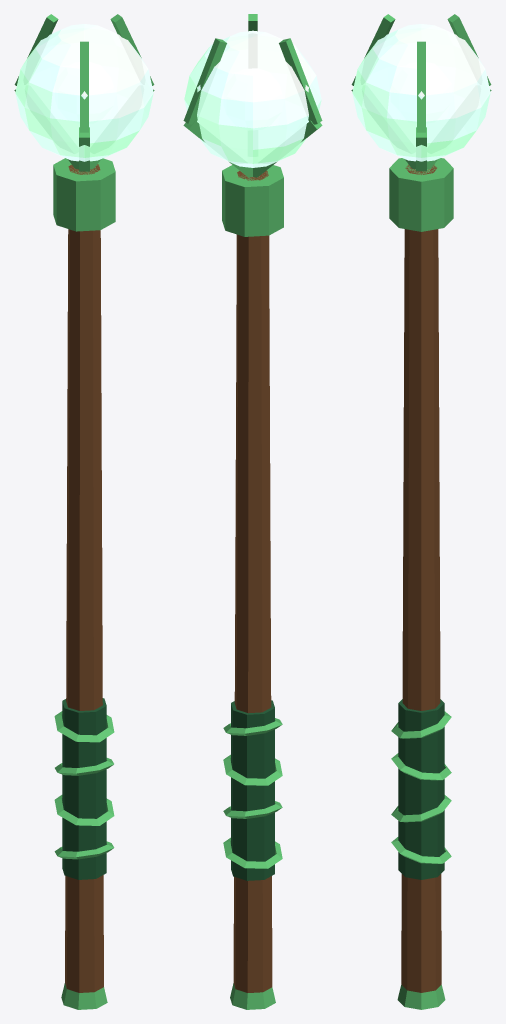
Rendered from weapon_staff_gale_v01.glb.
The picture shows the model from 3 angles, left to right: view 1: azimuth 30°, elevation 25°; view 2: azimuth 210°, elevation 25°; view 3: azimuth 270°, elevation 25°; orthographic projection.
Visible parts, largest first — view 1: weapon_staff_gale; view 2: weapon_staff_gale; view 3: weapon_staff_gale.
Part boxes in pixels (left/top/right/bottom): weapon_staff_gale: left=14, top=14, right=154, bottom=1009; weapon_staff_gale: left=183, top=14, right=322, bottom=1009; weapon_staff_gale: left=351, top=14, right=491, bottom=1009.
Bounding box in the file's own units: 0.1596 × 1.17 × 0.1519.
